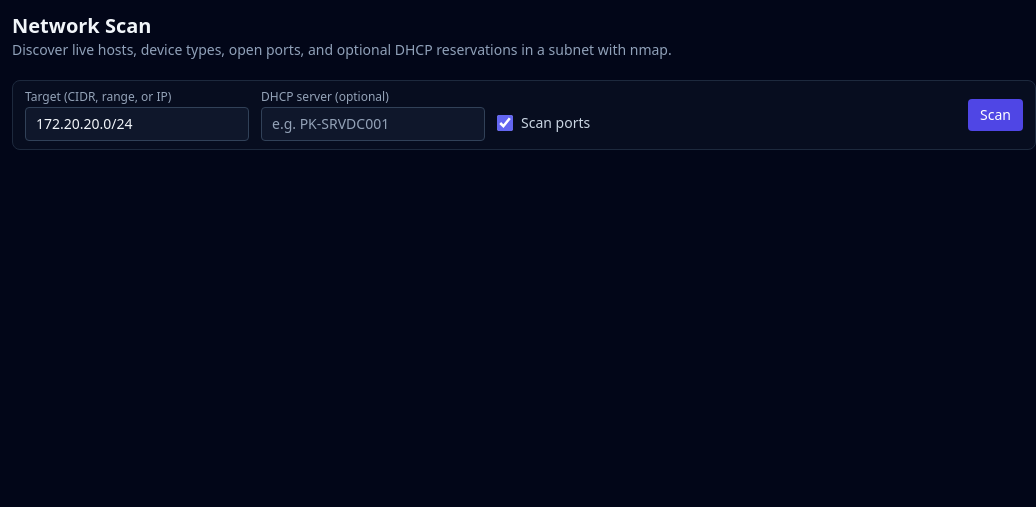
NetworkScanPage › uses the product language for the complete scan workflow and result vocabulary
Expected: the heading "Network Scan" is shown, [12,12,152,39]
Expected: the text "Target (CIDR, range, or IP)" is shown, [25,88,171,105]
Click the button "Scan": (996, 115) [968,99,1023,131]
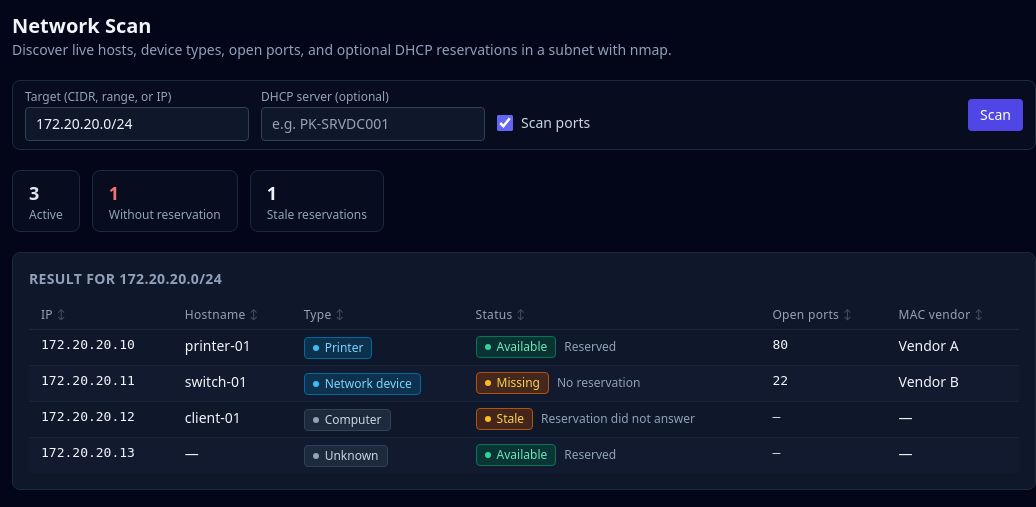
Now the heading "Result for 172.20.20.0/24" is shown, box [29,269,222,288]
Now the column heading "Hostname" is shown, box [173,301,292,330]
Now the column heading "Type" is shown, box [292,301,464,330]
